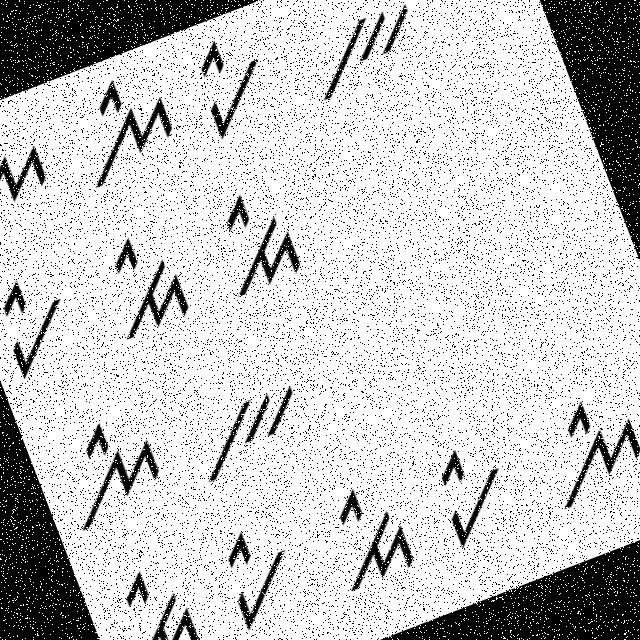di: (303, 465, 428, 602), (198, 178, 318, 306), (84, 223, 200, 350), (100, 555, 211, 639)
ni: (44, 394, 184, 538), (54, 62, 192, 200), (522, 378, 639, 526), (0, 110, 67, 246)
pi: (412, 426, 528, 557), (203, 512, 312, 638), (174, 26, 286, 148), (0, 256, 93, 390)
